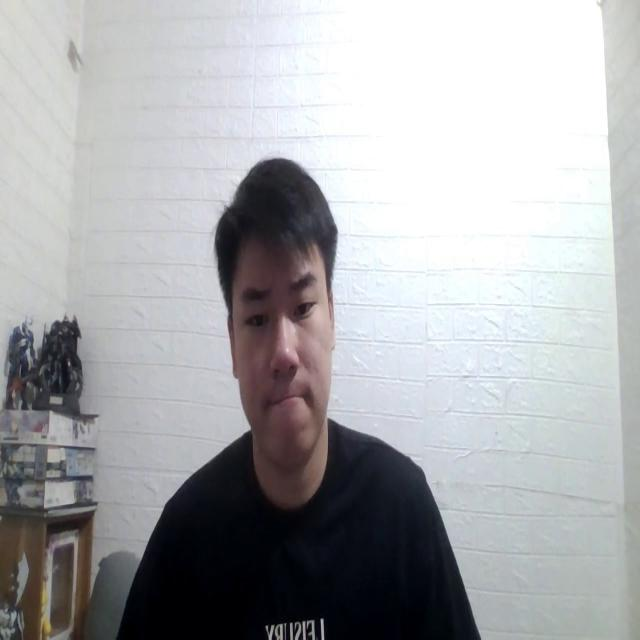student: (106, 155, 478, 640)
